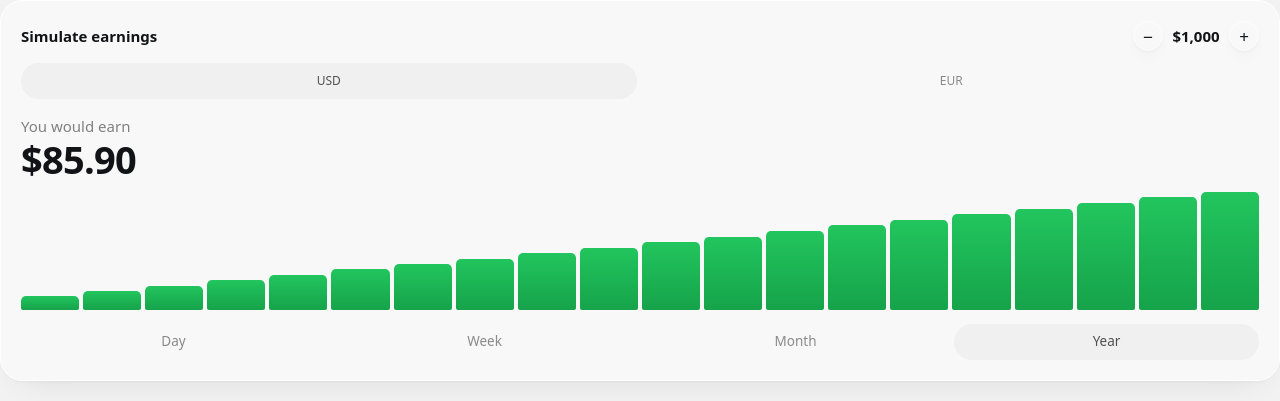
Test case: switching currency changes the symbol and the projection
Click the button "EUR" at point(951, 81), box x1=644 y1=63 x2=1259 y2=99
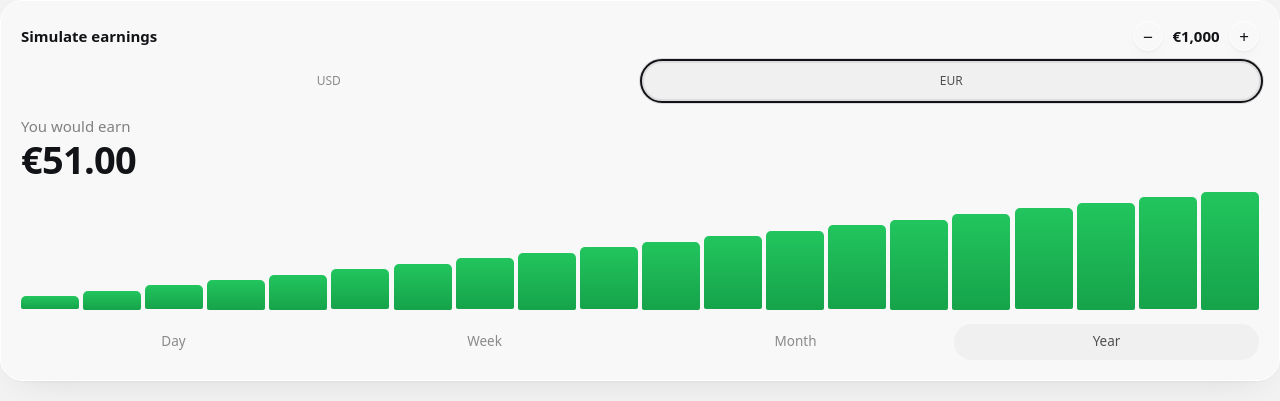
expect the text with test id "amount" reads "€1,000": met, box x1=1170 y1=25 x2=1222 y2=47
